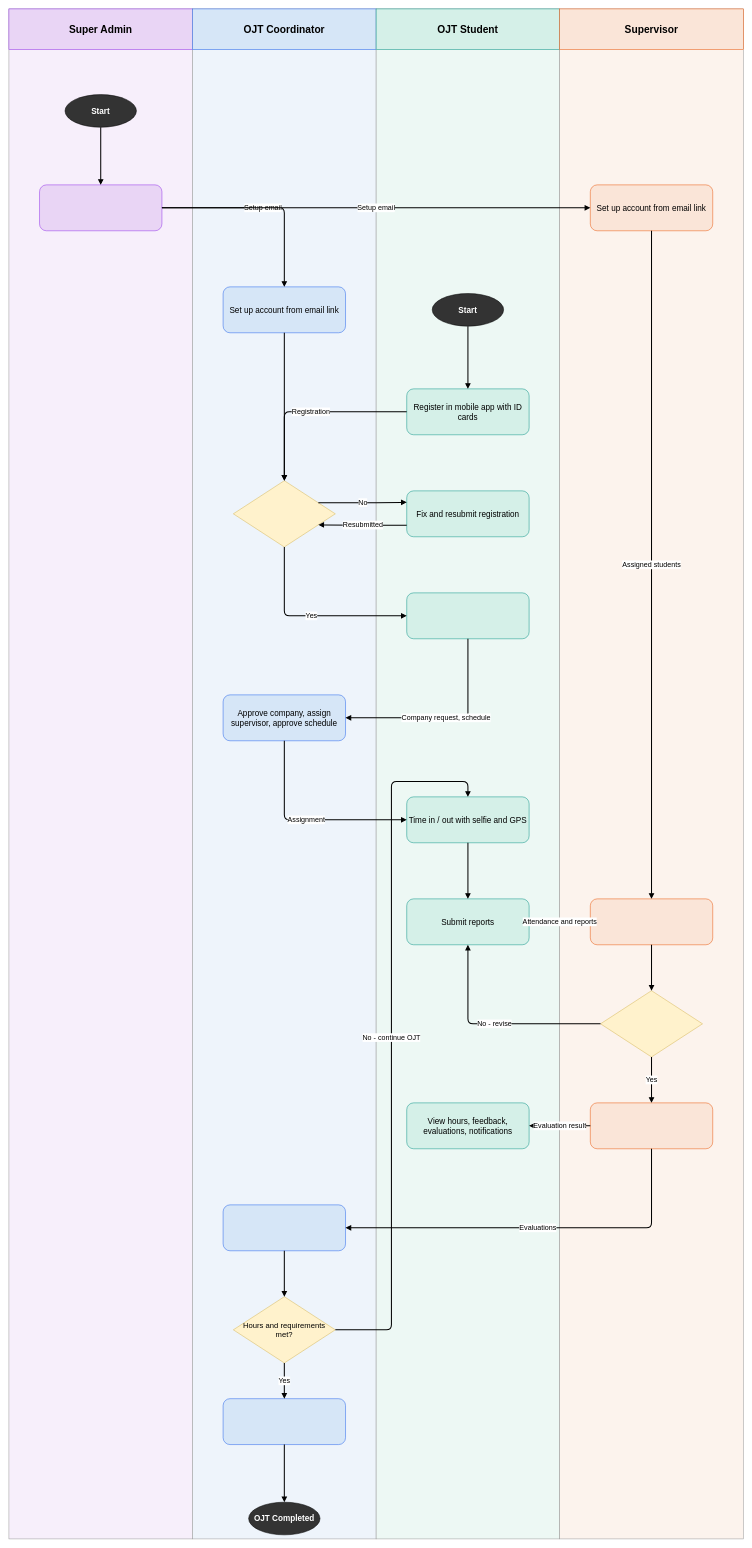
The diagram is 752 pixels wide and 1548 high, and some of its shapes have lost their labels. Each missing label, with the centre of its shape:
"Approved?" belongs at [651,1023].
"Create Coordinator and Supervisor accounts" belongs at [100,207].
"Give midterm and final evaluation" belongs at [651,1125].
"Monitor progress and post announcements" belongs at [284,1227].
"Record final grade and confirm completion" belongs at [284,1421].
"Registration approved?" belongs at [284,513].
"Request company and propose schedule" belongs at [467,615].
"Verify attendance and review reports" belongs at [651,921].
